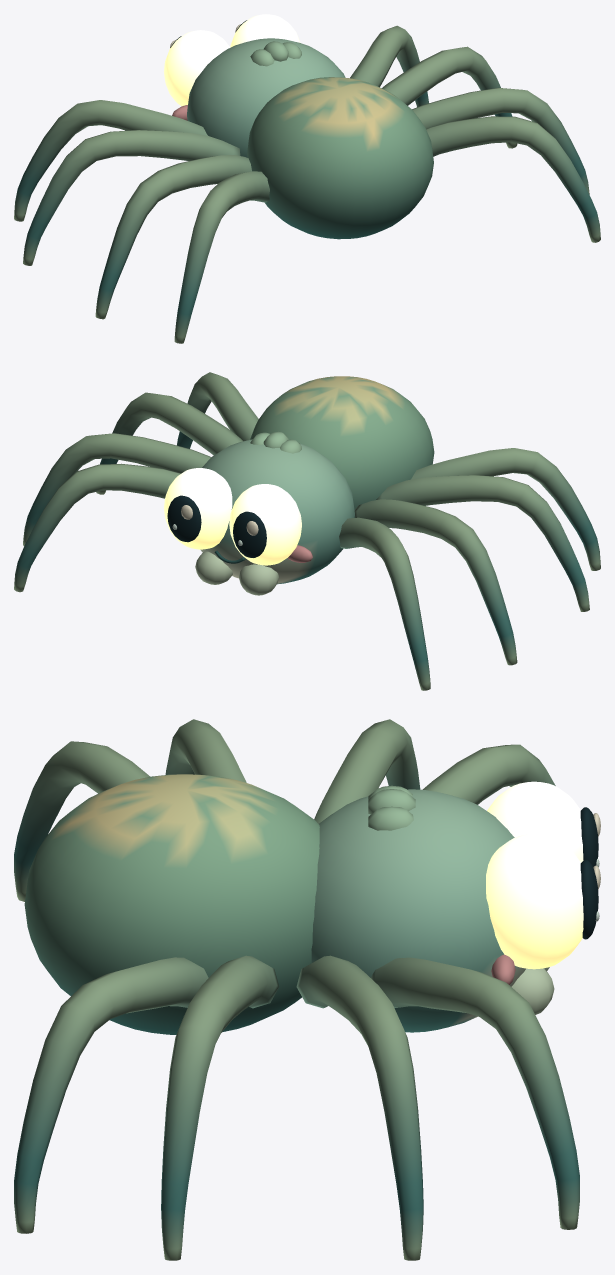
File: arana-pantano.glb
3 renders of one model, top to bottom at view 1: azimuth 30°, elevation 25°; view 2: azimuth 150°, elevation 25°; view 3: azimuth 270°, elevation 25°, orthographic. The views are drawn at different scales.
Parts seen in each view (by area): view 1: Cuerpo · guardiana de hojitas, Pata 2, Pata 4, Pata 7, Pata 0, Pata 6, Pata 5, Ojos · luz de miel, Pata 3, Pata 1; view 2: Cuerpo · guardiana de hojitas, Ojos · luz de miel, Pata 4, Pata 2, Pata 1, Pata 6, Pata 3, Pata 0, Pata 5, Pata 7; view 3: Cuerpo · guardiana de hojitas, Ojos · luz de miel, Pata 1, Pata 7, Pata 3, Pata 5, Pata 6, Pata 2, Pata 0, Pata 4.
Part boxes in pixels (bbox=[...]): Cuerpo · guardiana de hojitas: bbox=[170, 20, 433, 239]; Pata 2: bbox=[23, 130, 240, 265]; Pata 4: bbox=[95, 155, 251, 319]; Pata 7: bbox=[426, 116, 600, 242]; Pata 0: bbox=[14, 100, 207, 221]; Pata 6: bbox=[174, 171, 269, 343]; Pata 5: bbox=[412, 87, 589, 194]; Ojos · luz de miel: bbox=[163, 14, 300, 106]; Pata 3: bbox=[382, 46, 517, 148]; Pata 1: bbox=[350, 25, 428, 107]; Cuerpo · guardiana de hojitas: bbox=[167, 376, 434, 595]; Ojos · luz de miel: bbox=[163, 468, 301, 565]; Pata 4: bbox=[376, 475, 589, 611]; Pata 2: bbox=[354, 499, 517, 665]; Pata 1: bbox=[14, 463, 180, 592]; Pata 6: bbox=[411, 448, 600, 570]; Pata 3: bbox=[23, 433, 211, 545]; Pata 0: bbox=[339, 517, 430, 690]; Pata 5: bbox=[96, 392, 242, 494]; Pata 7: bbox=[177, 372, 258, 448]; Cuerpo · guardiana de hojitas: bbox=[24, 774, 600, 1034]; Ojos · luz de miel: bbox=[486, 781, 583, 969]; Pata 1: bbox=[371, 957, 579, 1229]; Pata 7: bbox=[14, 957, 208, 1233]; Pata 3: bbox=[296, 955, 423, 1260]; Pata 5: bbox=[161, 955, 279, 1260]; Pata 6: bbox=[14, 741, 149, 901]; Pata 2: bbox=[314, 719, 420, 823]; Pata 0: bbox=[422, 744, 555, 804]; Pata 4: bbox=[165, 719, 246, 782].
Size of the model in its own units: 2.03 by 0.6619 by 1.27.
